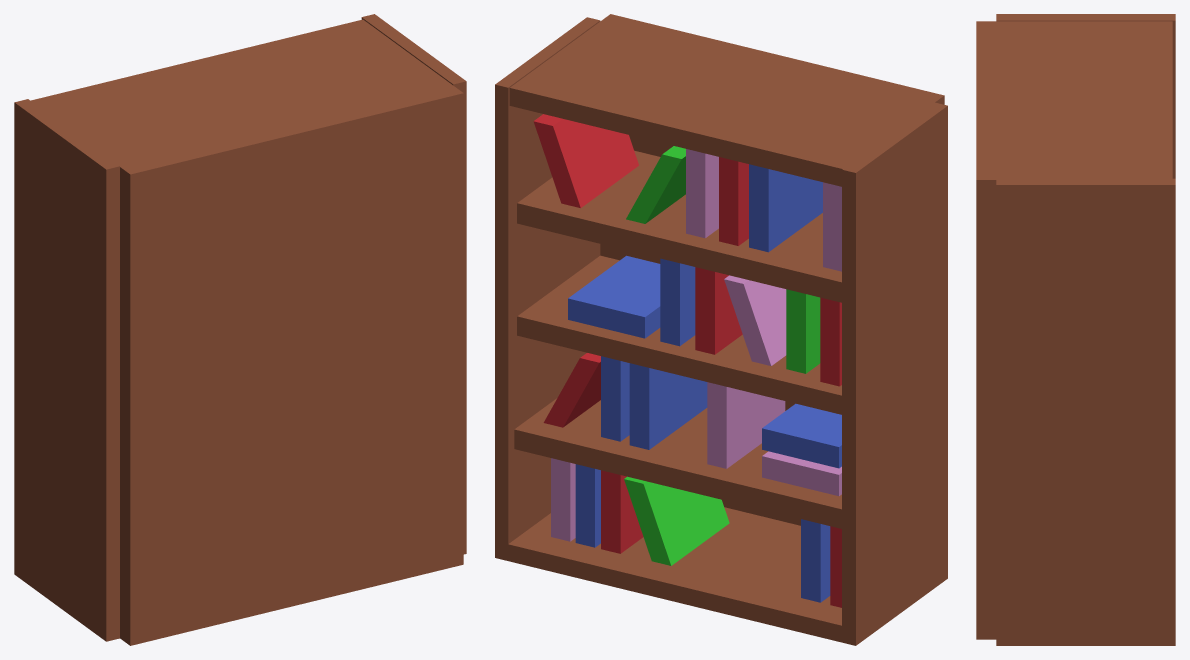
File: BookShelf.fbx
3 renders of one model, left to right at view 1: azimuth 30°, elevation 25°; view 2: azimuth 150°, elevation 25°; view 3: azimuth 270°, elevation 25°, orthographic. The views are drawn at different scales.
Visible parts, largest first — view 1: Cube; view 2: Cube, Cube.022, Cube.015, Cube.008, Cube.012, Cube.018, Cube.013, Cube.004, Cube.023, Cube.009, Cube.010, Cube.020 (+13 smaller); view 3: Cube.
Boxes of the visible parts, bbox=[...] form: Cube: bbox=[14, 14, 466, 645]; Cube: bbox=[495, 14, 947, 645]; Cube.022: bbox=[533, 114, 638, 208]; Cube.015: bbox=[624, 476, 729, 565]; Cube.008: bbox=[568, 255, 660, 338]; Cube.012: bbox=[629, 363, 707, 449]; Cube.018: bbox=[749, 164, 822, 252]; Cube.013: bbox=[707, 382, 785, 468]; Cube.004: bbox=[724, 275, 786, 365]; Cube.023: bbox=[762, 403, 841, 468]; Cube.009: bbox=[695, 267, 742, 354]; Cube.010: bbox=[660, 258, 695, 346]; Cube.020: bbox=[686, 149, 718, 238]; Cube: bbox=[976, 14, 1175, 645].
Size of the model in its own units: 327 by 410 by 161.
